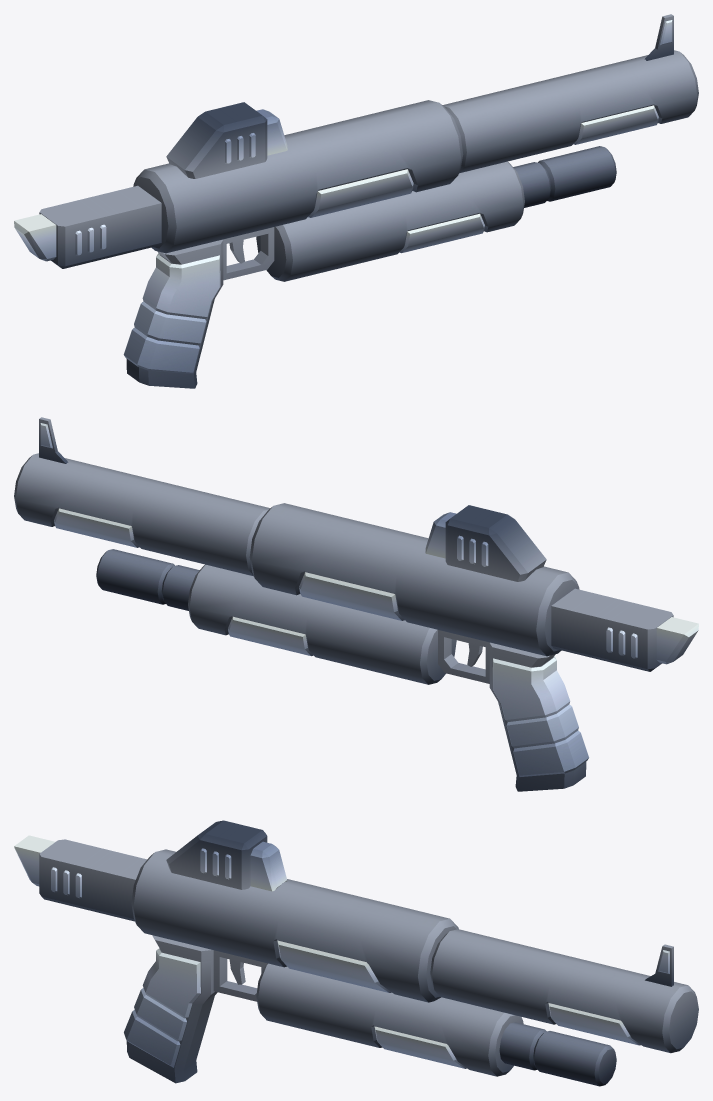
Rendered from Weapon1.FBX.
3 views of the same model, one above another, from view 1: azimuth 30°, elevation 25°; view 2: azimuth 150°, elevation 25°; view 3: azimuth 330°, elevation 25° (orthographic).
Visible parts, largest first — view 1: Cylinder015; view 2: Cylinder015; view 3: Cylinder015.
Boxes of the visible parts, x1=… form: Cylinder015: x1=14, y1=14, x2=698, y2=388; Cylinder015: x1=14, y1=417, x2=698, y2=791; Cylinder015: x1=14, y1=820, x2=698, y2=1086.
Size of the model in its own units: 53.92 by 19.86 by 6.09.
